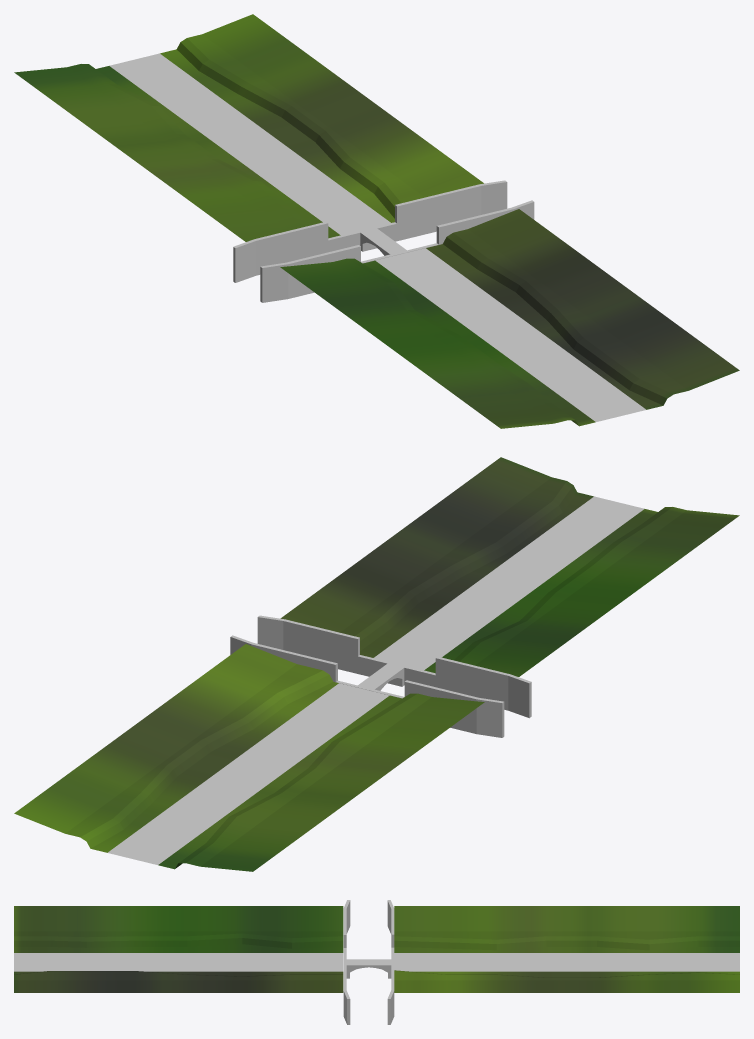
File: BRIDGE_NOU2.fbx
3 views of the same model, one above another, from view 1: azimuth 30°, elevation 25°; view 2: azimuth 150°, elevation 25°; view 3: azimuth 270°, elevation 25° (orthographic). The views are drawn at different scales.
Parts seen in each view (by area): view 1: Plane, Plane.001; view 2: Plane, Plane.001; view 3: Plane, Plane.001.
Part boxes in pixels (x1,y1,x2,y2): Plane: [14, 14, 739, 428]; Plane.001: [233, 180, 534, 302]; Plane: [14, 457, 739, 871]; Plane.001: [230, 615, 531, 737]; Plane: [14, 906, 739, 992]; Plane.001: [343, 900, 394, 1024].
Bounding box in the file's own units: 3223 × 395 × 10000.
